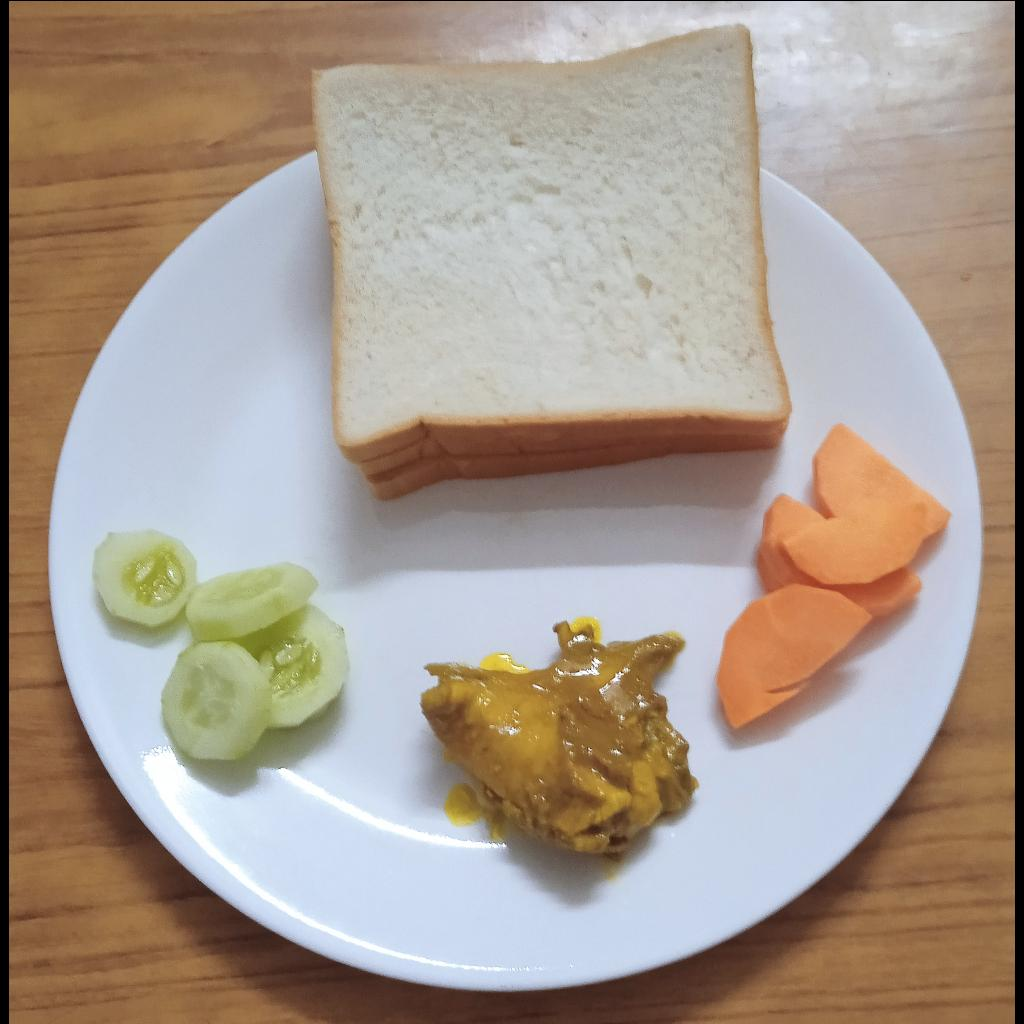bread: (311, 22, 793, 503)
carrot: (717, 422, 953, 730)
chicken: (421, 621, 698, 855)
cucumber: (93, 527, 349, 758)
